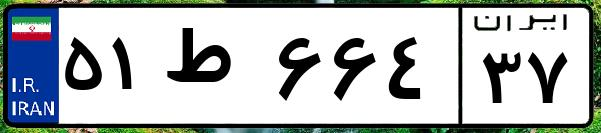1: (110, 28, 158, 98)
3: (475, 38, 525, 113)
4: (385, 28, 445, 110)
5: (57, 26, 110, 100)
6: (270, 28, 330, 110), (330, 28, 385, 110)
7: (525, 38, 570, 115)
ط: (158, 20, 270, 120)
